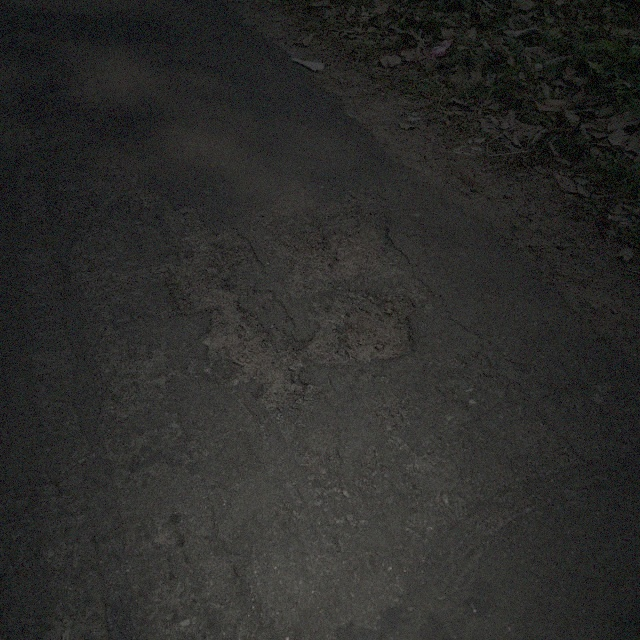pothole: (154, 198, 433, 414)
